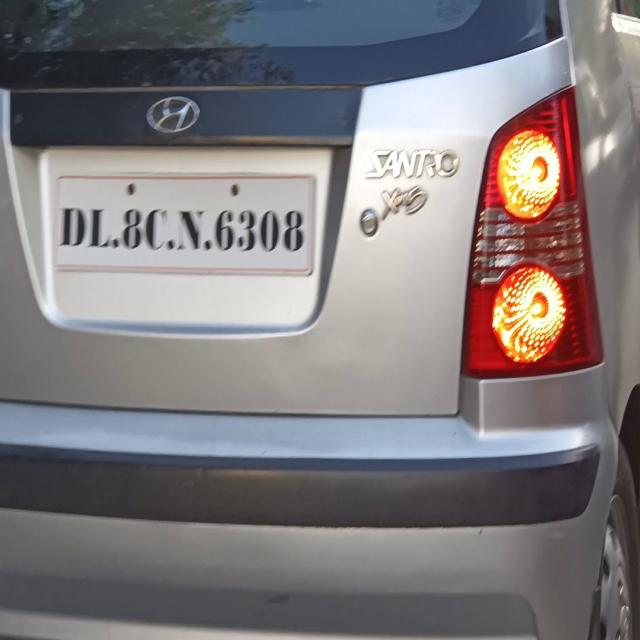license-plate: (55, 175, 311, 268)
